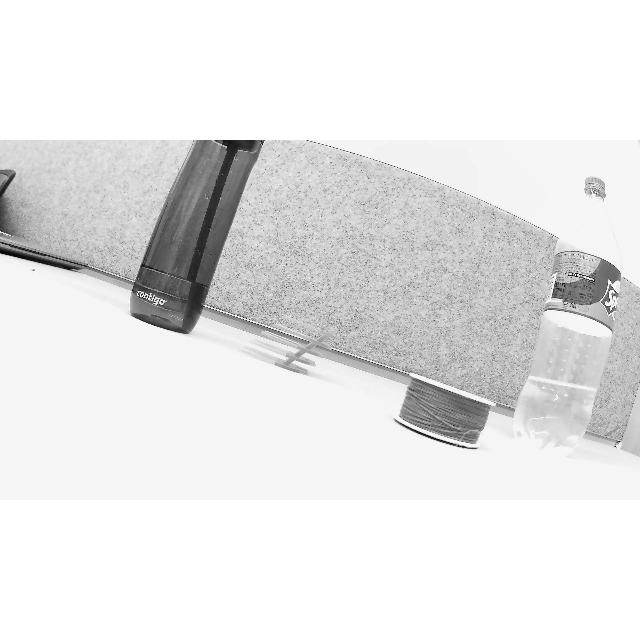targets: (511, 172, 623, 458), (125, 142, 262, 332), (394, 372, 496, 448), (238, 311, 342, 377)
